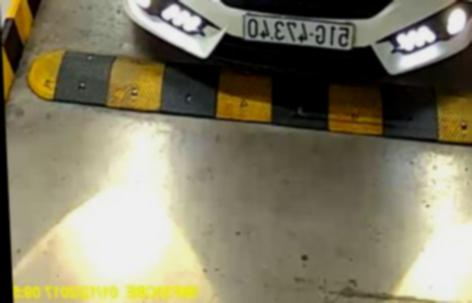License_Plate: (237, 13, 358, 50)
